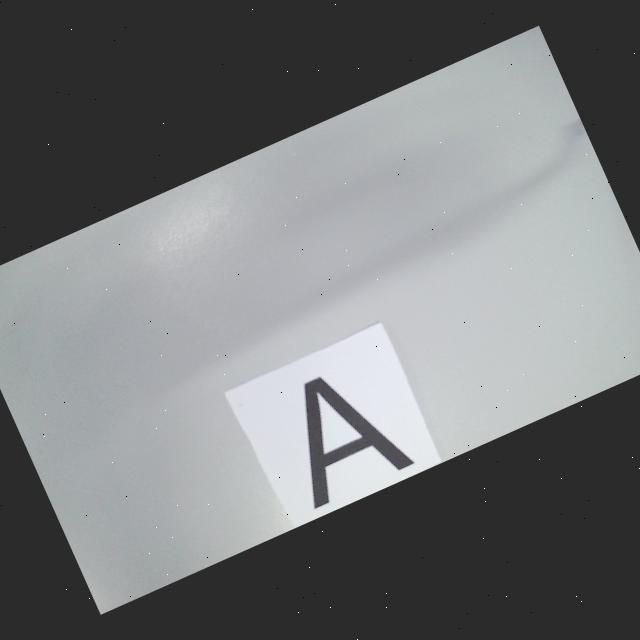FAKE: (266, 354, 416, 510)
